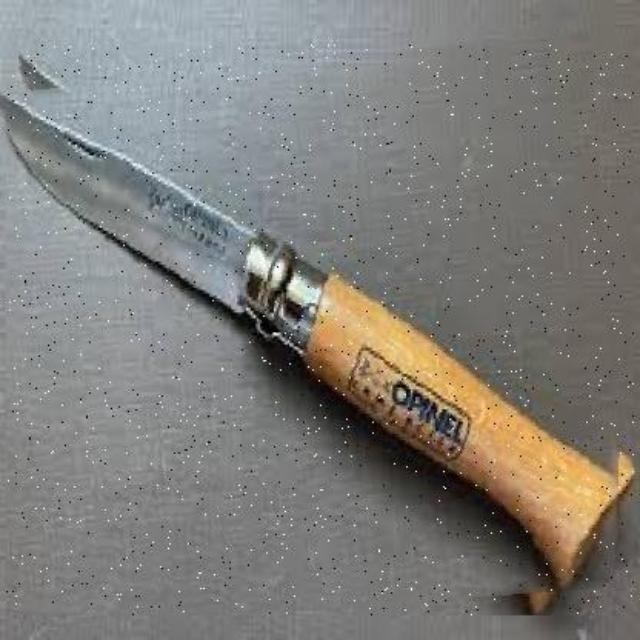Knife: (6, 45, 634, 615)
